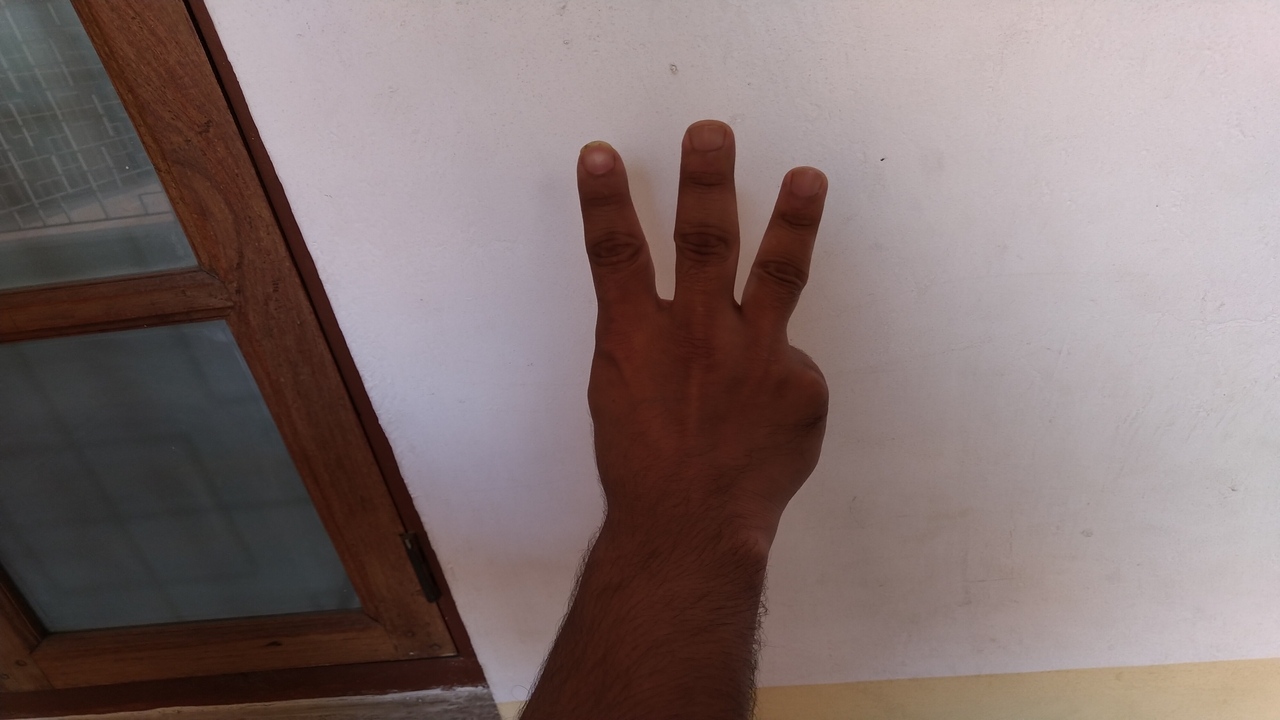fingertip: (672, 116, 736, 170), (572, 136, 632, 186), (778, 160, 836, 210)
